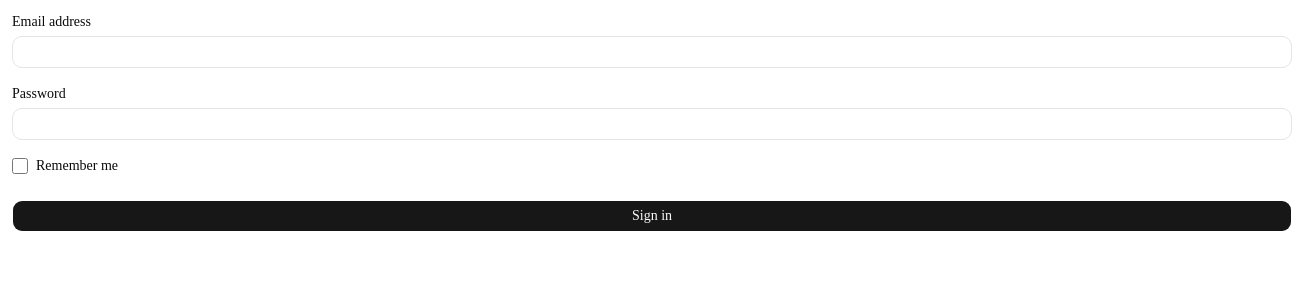
Test: T119 — LoginForm › 423 response shows lock message
Type "u@example.com" into the field labelled "Email address" at (652, 52), box [12,36,1292,68]
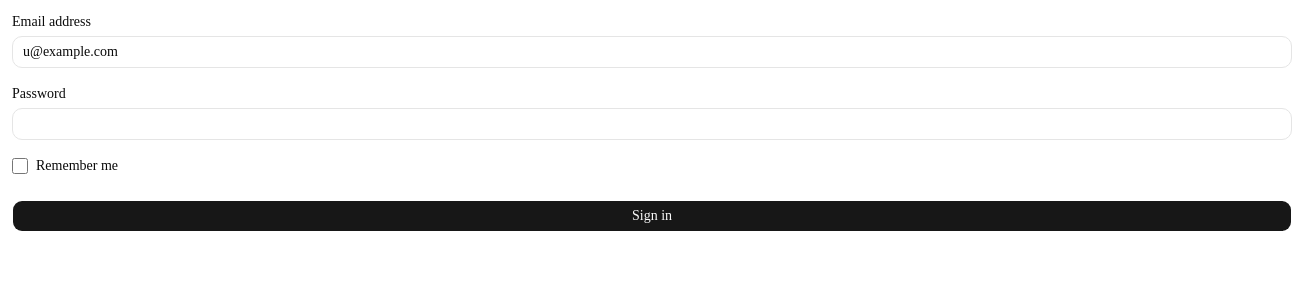
Type "anypass" into the password field labelled "Password" at (652, 124), box [12,108,1292,140]
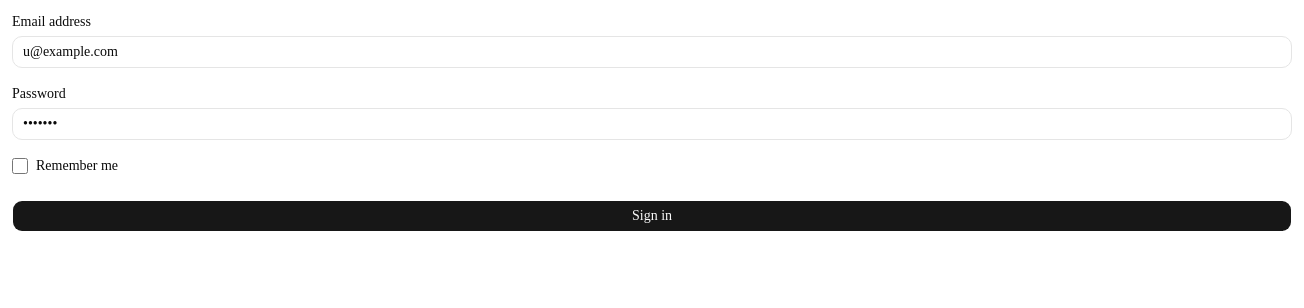
Click the button "Sign in" at (652, 216), box [12,200,1292,232]
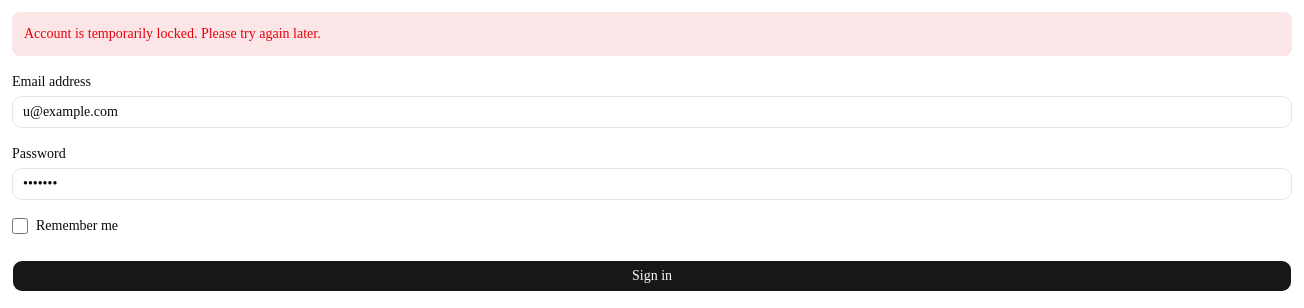
Expected: the text "Account is temporarily locked. Please try again later." is shown, [12,12,1292,56]
